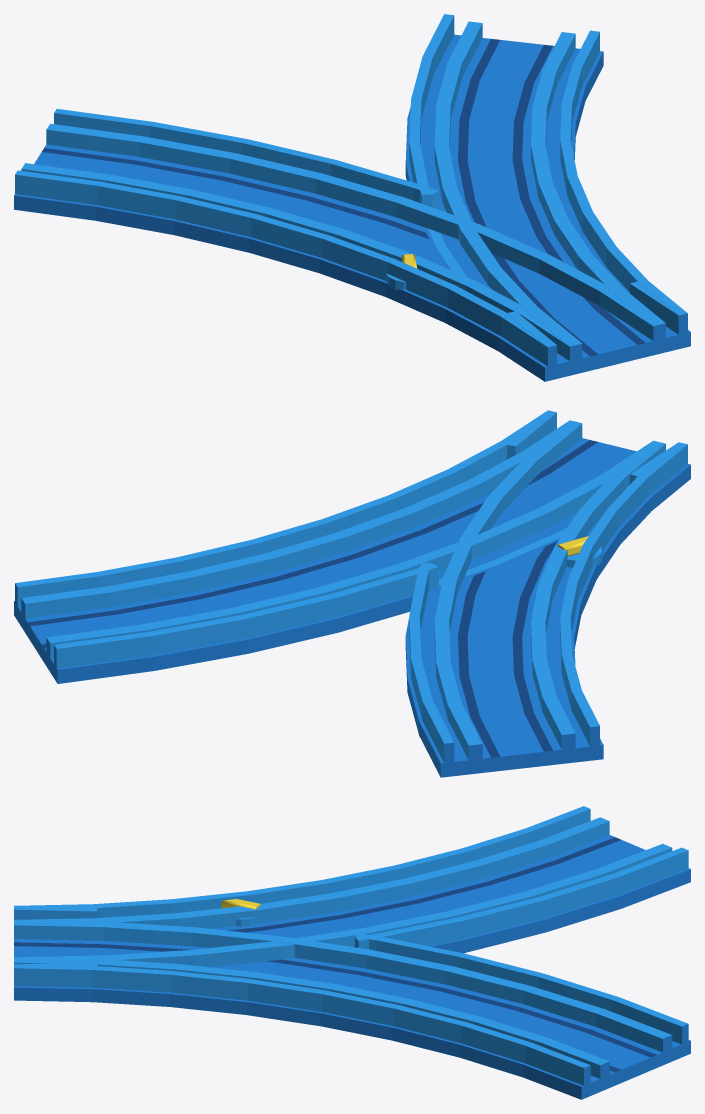
Rendered from Track_Point_Eight.fbx.
3 renders of one model, top to bottom at view 1: azimuth 30°, elevation 25°; view 2: azimuth 150°, elevation 25°; view 3: azimuth 270°, elevation 25°, orthographic. The views are drawn at different scales.
Parts seen in each view (by area): view 1: Rail left, Rail right; view 2: Rail right, Rail left; view 3: Rail right, Rail left.
Part boxes in pixels (left/top/right/bottom): Rail left: left=14, top=109, right=688, bottom=381; Rail right: left=405, top=14, right=690, bottom=367; Rail right: left=14, top=410, right=690, bottom=683; Rail left: left=405, top=413, right=690, bottom=777; Rail right: left=14, top=905, right=690, bottom=1099; Rail left: left=18, top=806, right=690, bottom=967.
Bounding box in the file's own units: 426 × 23.31 × 462.
